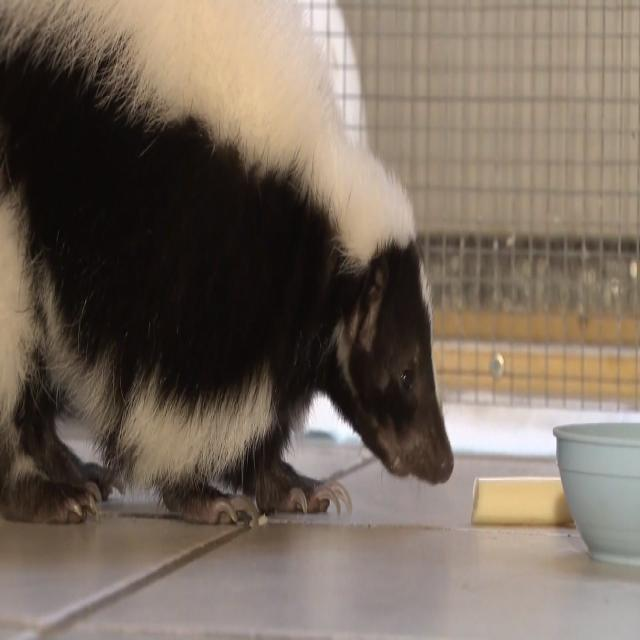Skunk: (0, 0, 464, 546)
